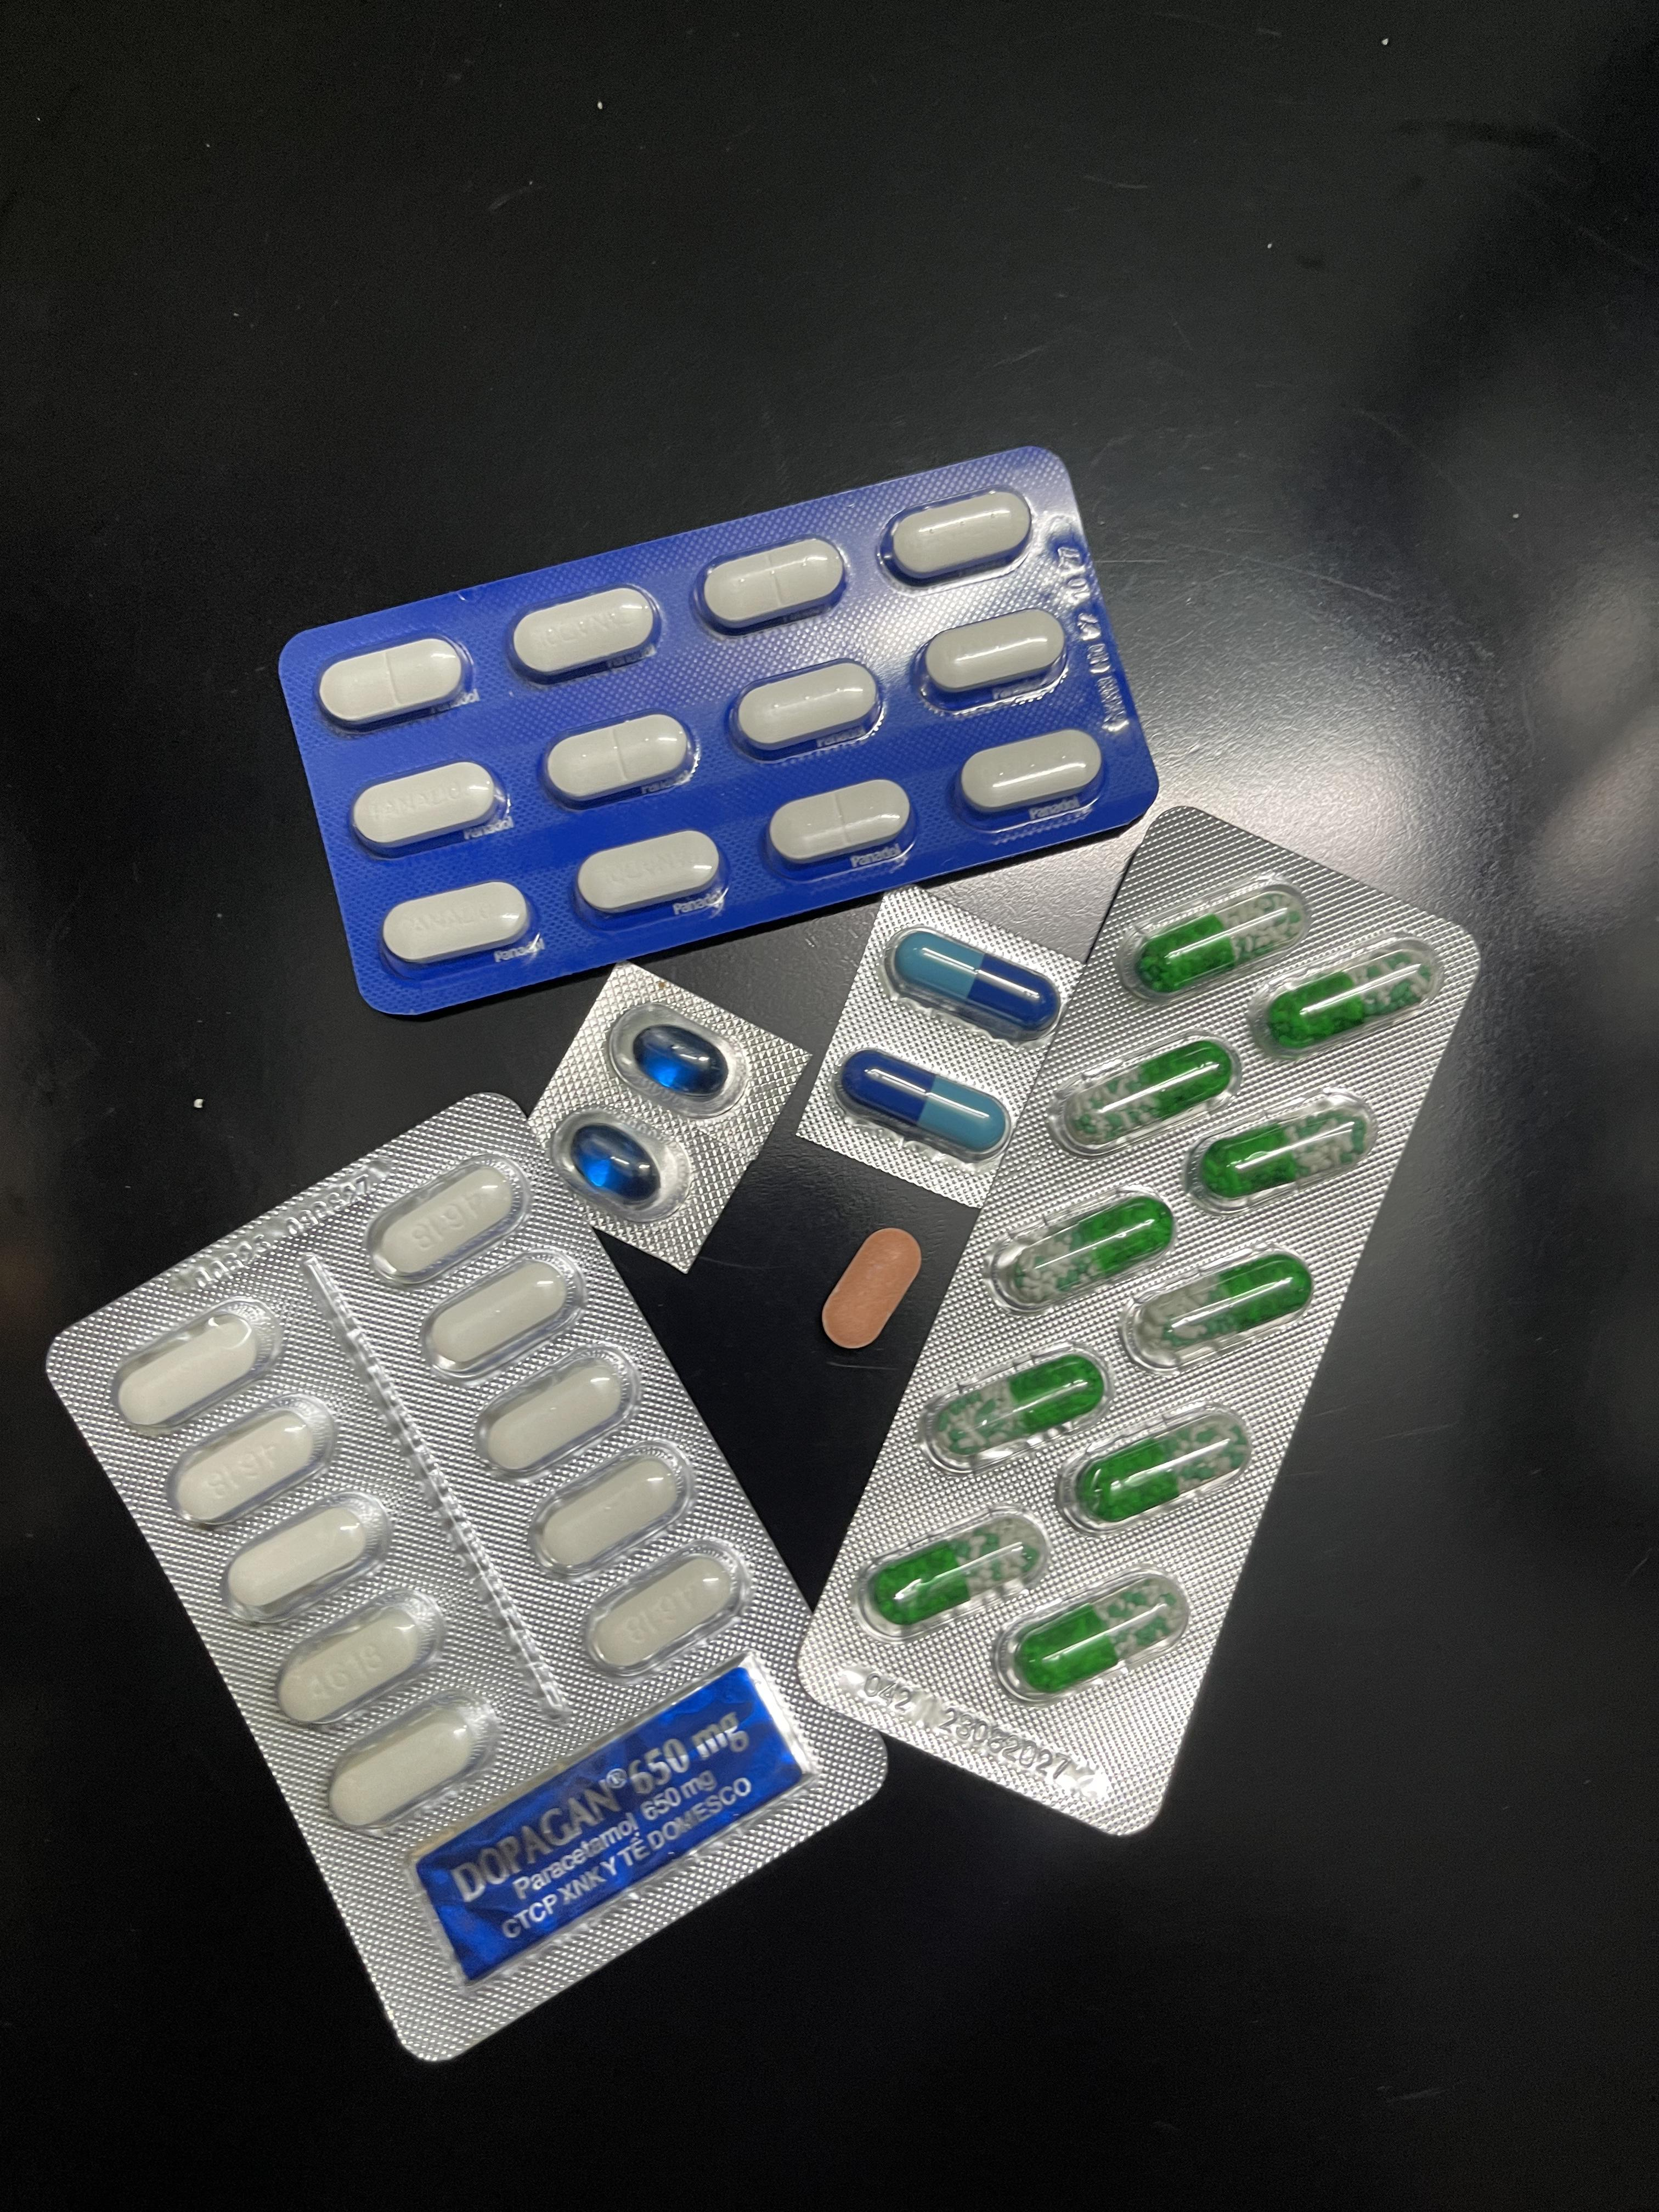Lincomyxin_500mg: (569, 1124, 662, 1203), (633, 1023, 727, 1094)
Loratadine_10mg: (819, 1228, 922, 1351)
Paracetamol_350mg: (881, 488, 1036, 585), (731, 659, 885, 756), (352, 759, 504, 854), (510, 586, 661, 681), (960, 728, 1108, 823), (920, 607, 1070, 701), (319, 635, 469, 729), (699, 540, 849, 633), (544, 714, 693, 806), (768, 779, 917, 871), (575, 830, 724, 921), (382, 880, 535, 968)
Paracetamol_500mg: (216, 1480, 387, 1624), (274, 1588, 442, 1730), (169, 1390, 337, 1531), (111, 1294, 283, 1430), (321, 1694, 492, 1827), (527, 1441, 691, 1577), (581, 1543, 745, 1678), (471, 1342, 634, 1476), (421, 1251, 580, 1378), (364, 1156, 525, 1279)
Paracetamol_650mg: (853, 1510, 1049, 1641), (927, 1345, 1118, 1470), (1049, 1032, 1239, 1156), (1064, 1404, 1251, 1528), (1185, 1094, 1377, 1211), (990, 1187, 1174, 1306), (1132, 1250, 1319, 1368), (1118, 879, 1307, 994), (1015, 1580, 1178, 1689), (1266, 955, 1432, 1045)
pill: (837, 1048, 1015, 1163), (894, 934, 1060, 1034)
